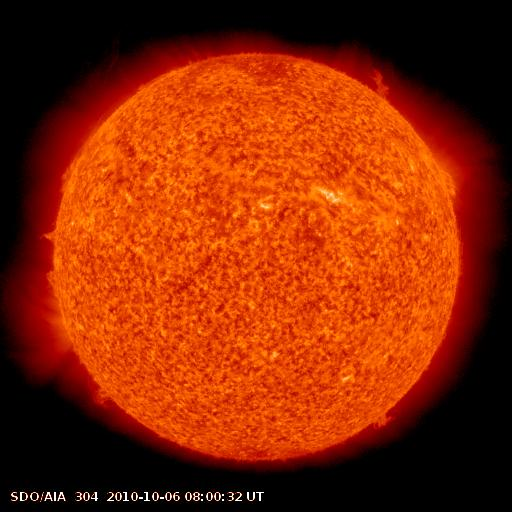prominence: (18, 299, 82, 367), (34, 222, 73, 302), (358, 55, 407, 113), (74, 375, 135, 416), (50, 143, 95, 196), (365, 400, 413, 445)
